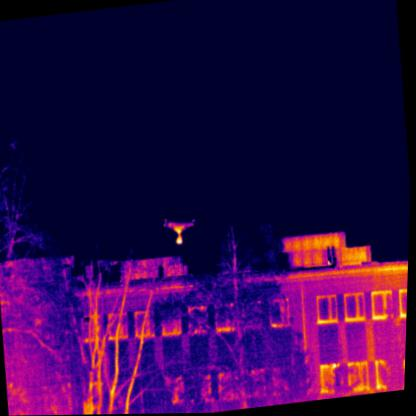drone: (162, 214, 198, 245)
